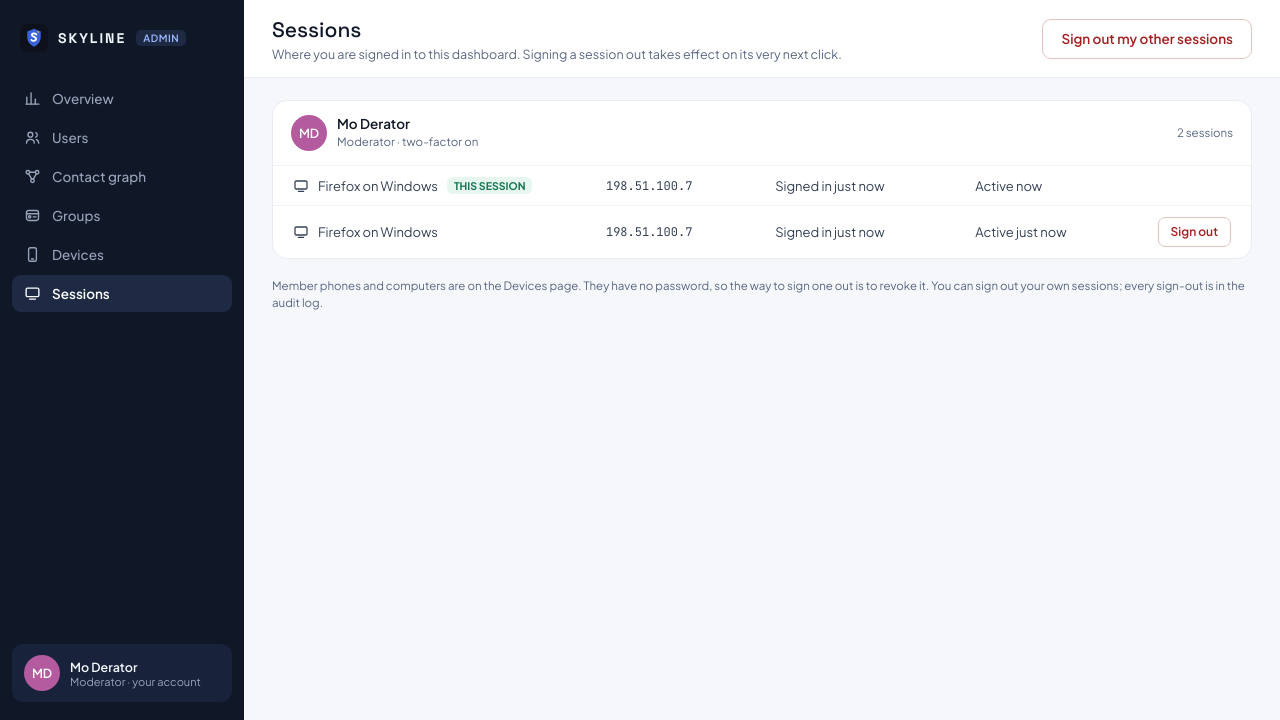
it: sessions (board 39) › a moderator is offered only their own other sessions, after confirming
Step 1. Click the button "Sign out my other sessions" → {"x": 1147, "y": 38}, box [1042, 18, 1252, 58]
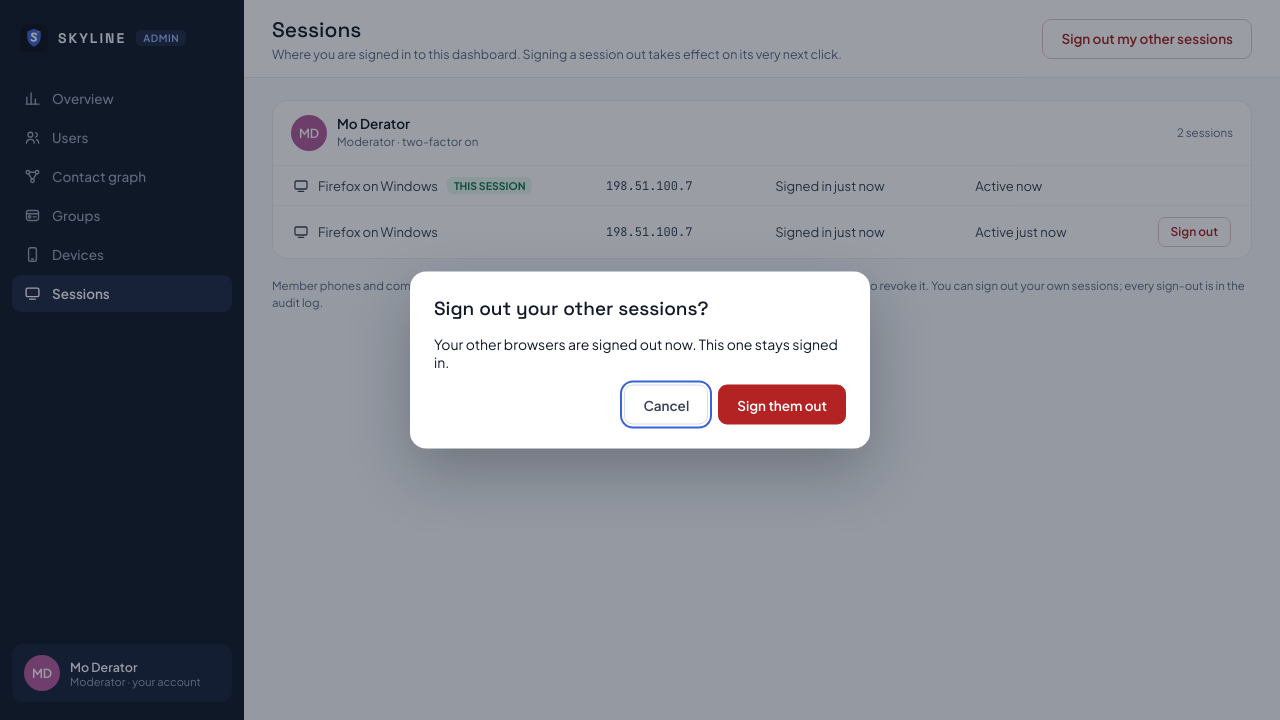
Step 2. Click the button "Sign them out" → {"x": 782, "y": 404}, box [718, 384, 846, 424]
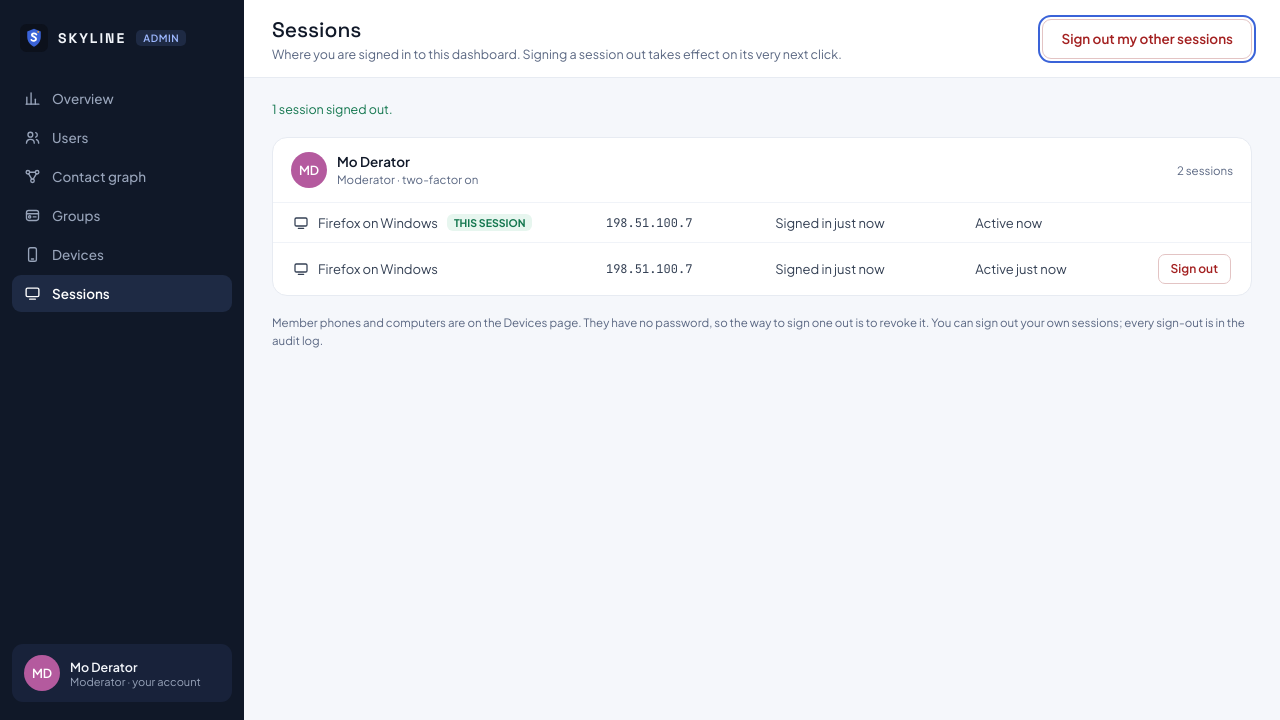
Check: the text "1 session signed out." is shown, box [272, 101, 392, 117]
